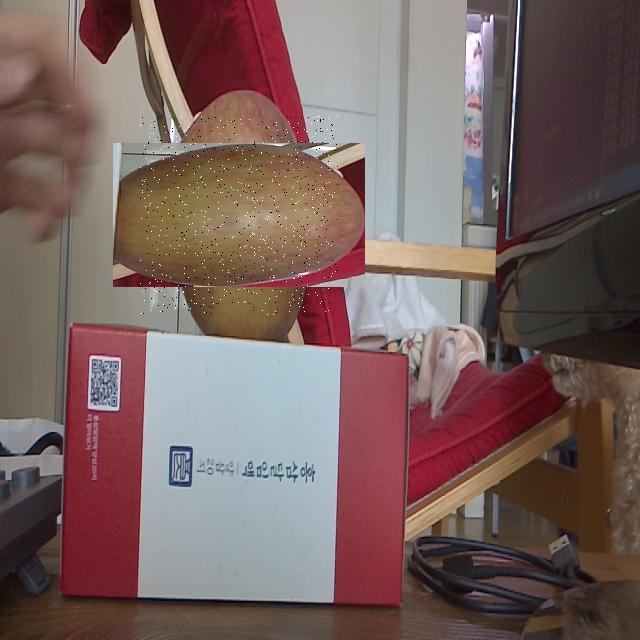apple: (140, 116, 338, 315)
